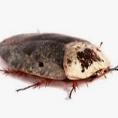cockroach: (0, 31, 107, 87)
